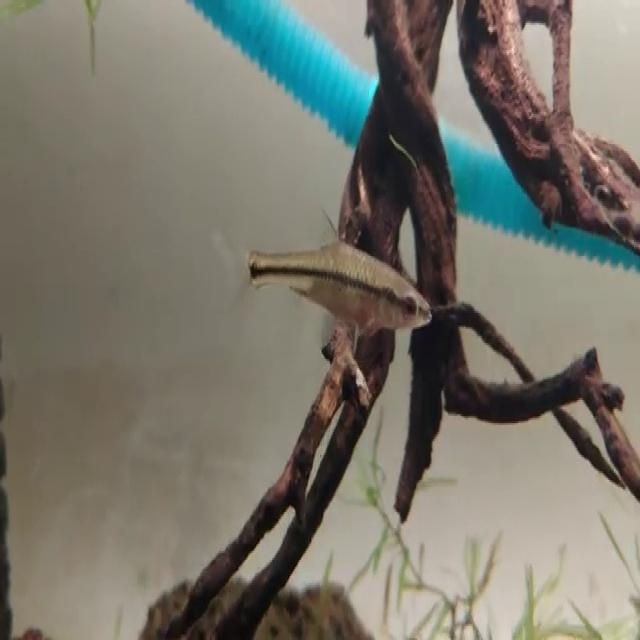Cakil Baligi: (245, 231, 433, 341)
